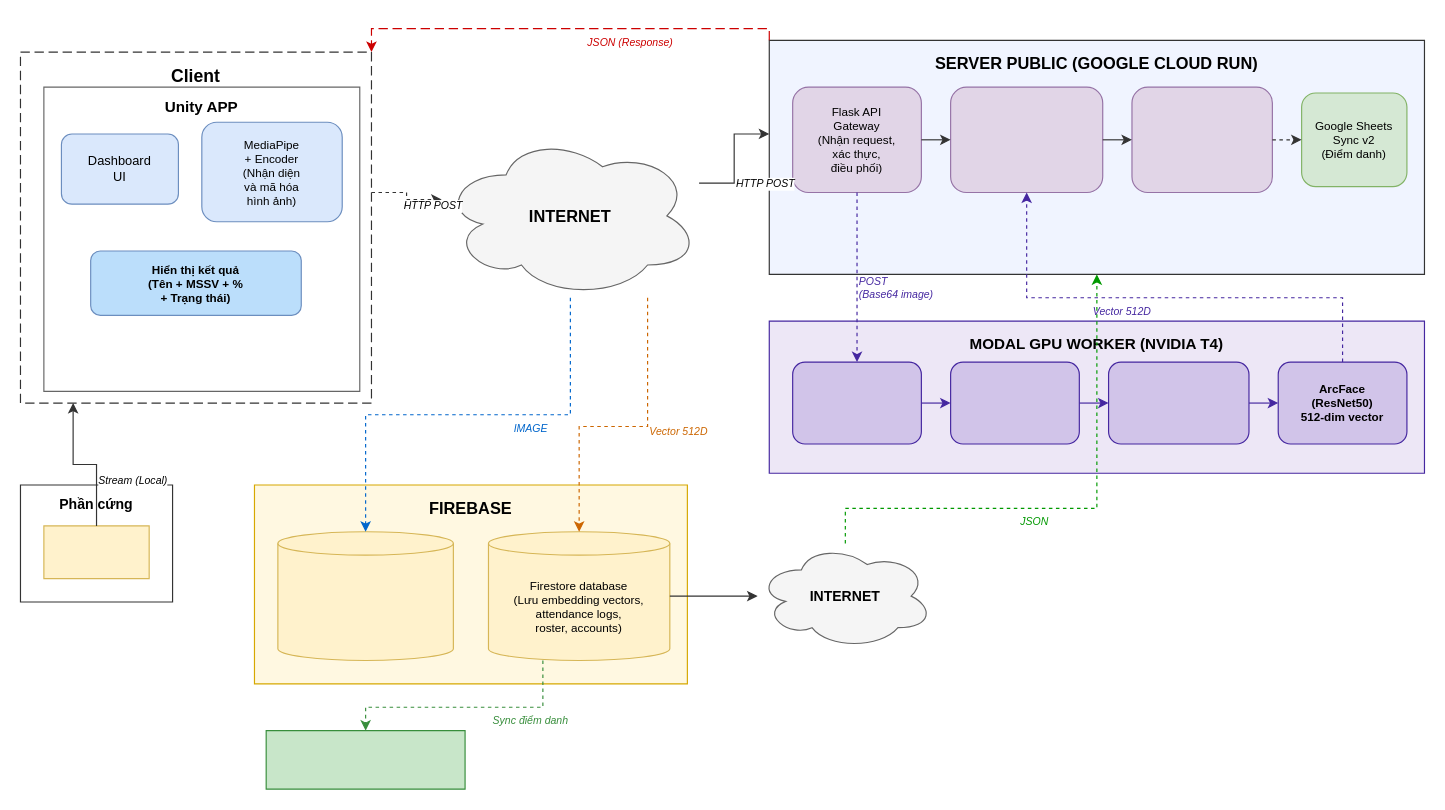
Some shapes in this 1445 by 810 pixel diagram are drawn without their labels. Here are the shapes that lost their labels. From the top down, the centre of each, then its label:
At pixel 1026 139: "FAISS Engine (So sánh vector Cosine Similarity + Auto-learn)".
At pixel 1201 139: "Matching Logic (best_sim ≥ 0.55 gap ≥ 0.03 ratio ≤ 0.97)".
At pixel 856 402: "Decoder (Base64 → OpenCV imread)".
At pixel 1014 402: "YOLOv8n Anti-fraud (detect phone)".
At pixel 1178 402: "RetinaFace Face Detection (Fallback chain)".
At pixel 96 552: "WebCam".
At pixel 365 595: "Storage (Kho lưu trữ ảnh khuôn mặt gốc)".
At pixel 365 759: "Google Sheets (Bảng điểm danh)".
